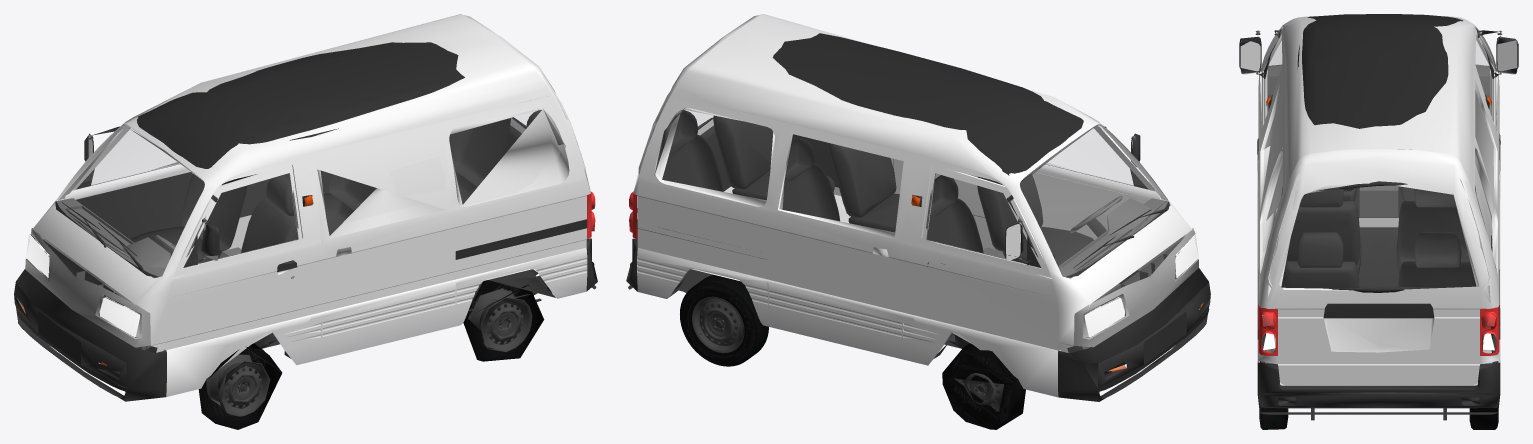
The model's file is damas.ai.glb.
3 views of the same model, side by side, from view 1: azimuth 30°, elevation 25°; view 2: azimuth 150°, elevation 25°; view 3: azimuth 270°, elevation 25° (orthographic). The views are drawn at different scales.
Parts seen in each view (by area): view 1: Object_12, Object_14, Object_17, Object_19, Object_25, Object_11, Object_21, Object_18, Object_23, Object_24, Object_22; view 2: Object_12, Object_14, Object_17, Object_19, Object_11, Object_18, Object_21, Object_25, Object_23, Object_22, Object_24; view 3: Object_12, Object_14, Object_17, Object_19, Object_18, Object_2, Object_11, Object_3, Object_24, Object_23, Object_10, Object_22.
Part boxes in pixels (x1,y1,x2,y2): Object_12: (32,14,590,396); Object_14: (76,42,541,352); Object_17: (26,109,559,336); Object_19: (14,117,597,401); Object_25: (93,126,532,416); Object_11: (198,280,544,429); Object_21: (25,228,294,347); Object_18: (42,198,241,350); Object_23: (19,235,139,363); Object_24: (217,269,596,405); Object_22: (30,109,565,337); Object_12: (633,14,1192,397); Object_14: (662,33,1093,353); Object_17: (659,109,1198,336); Object_19: (626,117,1210,401); Object_11: (680,275,1025,429); Object_18: (983,195,1182,371); Object_21: (1074,228,1198,347); Object_25: (692,126,1106,411); Object_23: (637,196,1199,370); Object_22: (654,107,1195,337); Object_24: (628,269,1004,392); Object_12: (1257,16,1500,385); Object_14: (1265,14,1492,352); Object_17: (1262,40,1495,288); Object_19: (1239,36,1518,408); Object_18: (1267,64,1490,217); Object_2: (1240,37,1517,74); Object_11: (1259,361,1498,429); Object_3: (1258,305,1499,355); Object_24: (1260,318,1497,420); Object_23: (1262,313,1495,350); Object_10: (1261,312,1496,329); Object_22: (1255,30,1502,270).
Size of what is drawn, in the model's own units: 8.64 by 4.74 by 4.02.
15 materials, 1 textured.
